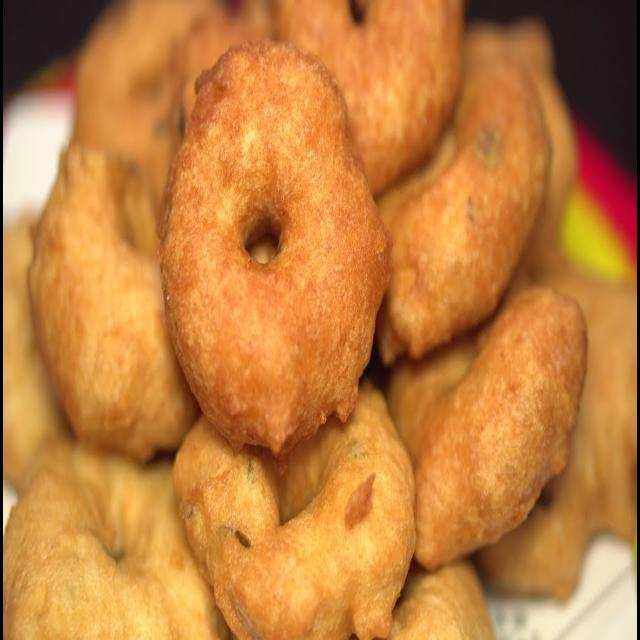Vada: (160, 41, 391, 462), (172, 380, 417, 640), (397, 286, 588, 575), (3, 440, 233, 640)
